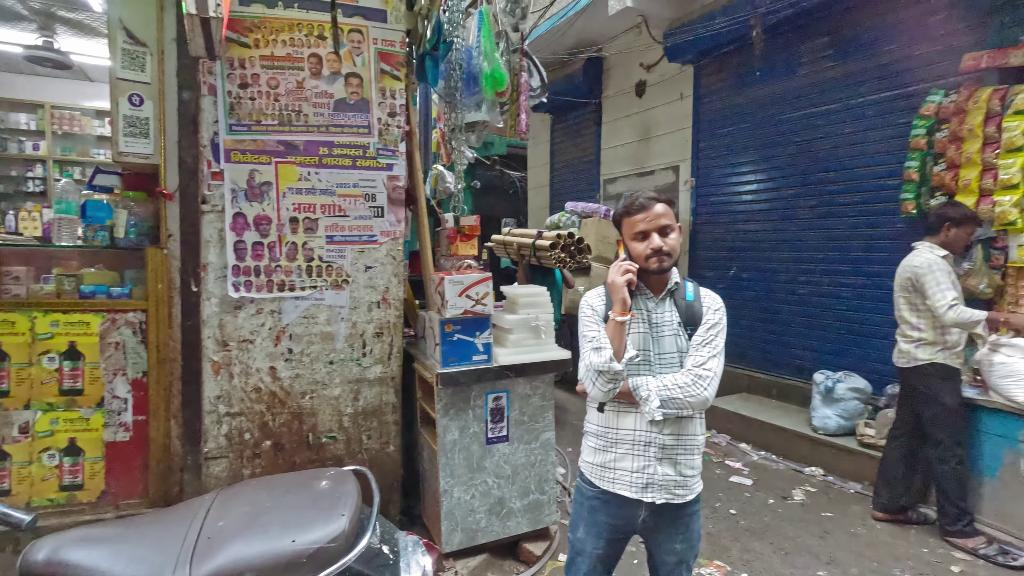garbage: (711, 428, 765, 469), (727, 472, 767, 491), (803, 460, 827, 482), (788, 483, 814, 502)
